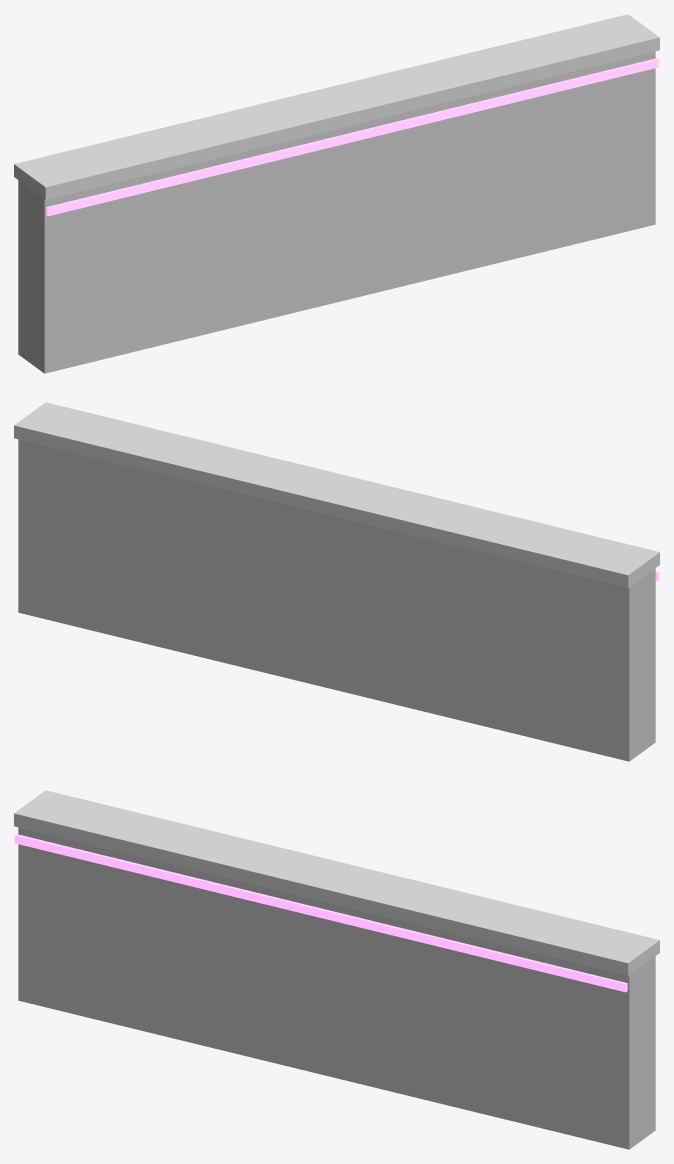
The model's file is OCK_Bay_Parapet_C.fbx.
The picture shows the model from 3 angles, top to bottom: view 1: azimuth 30°, elevation 25°; view 2: azimuth 150°, elevation 25°; view 3: azimuth 330°, elevation 25°; orthographic projection.
Parts seen in each view (by area): view 1: OCK_Bay_Parapet_C; view 2: OCK_Bay_Parapet_C; view 3: OCK_Bay_Parapet_C.
Boxes of the visible parts, x1,y1,x2,y2 form: OCK_Bay_Parapet_C: [14, 14, 659, 373]; OCK_Bay_Parapet_C: [14, 402, 659, 761]; OCK_Bay_Parapet_C: [14, 790, 659, 1149].
Bounding box in the file's own units: 402 × 118 × 37.
